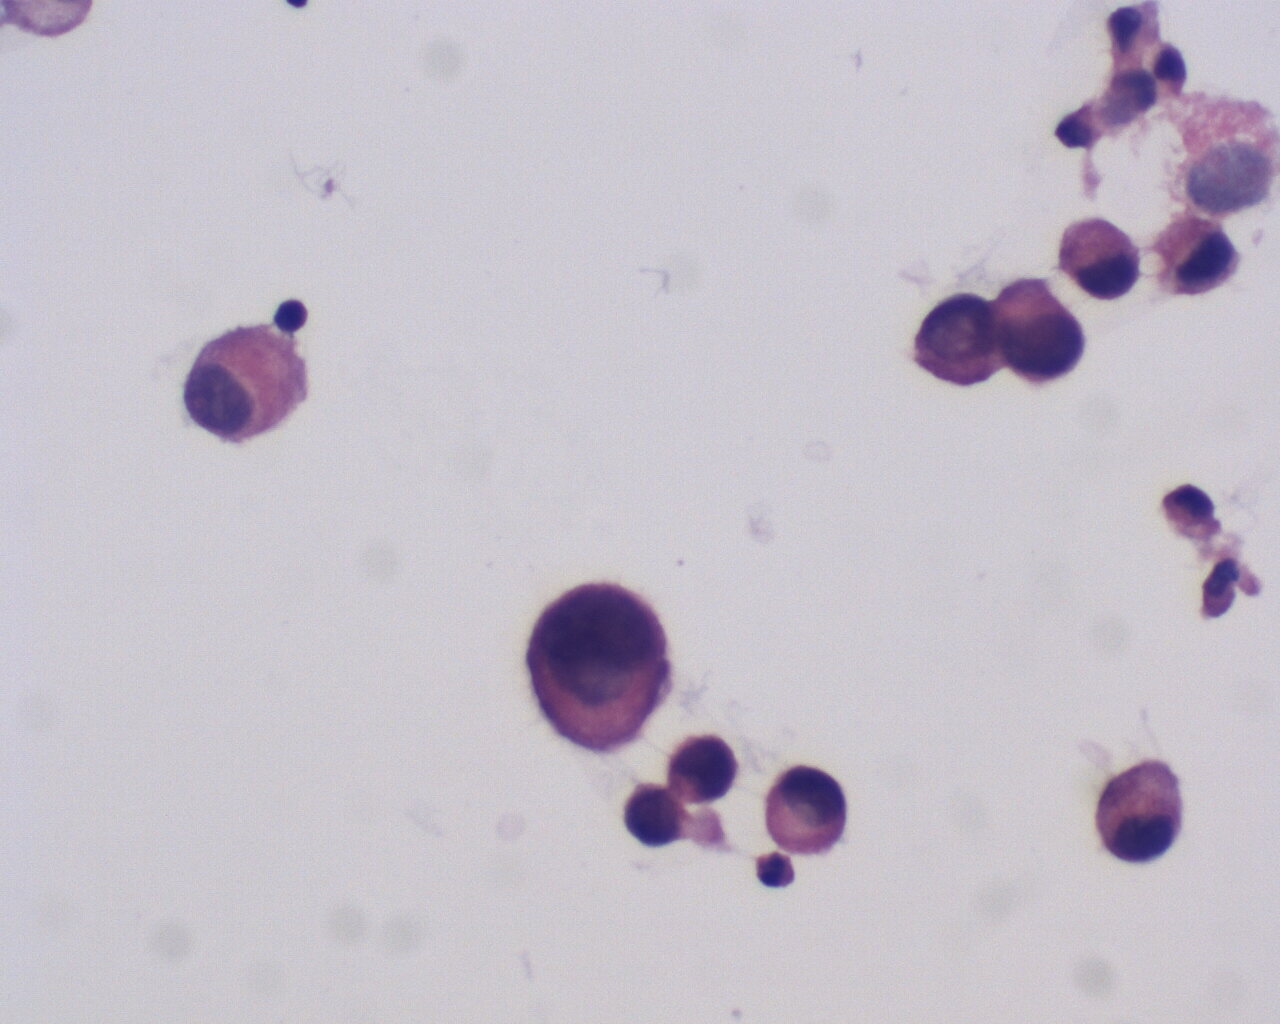ab: (516, 576, 668, 762), (994, 277, 1089, 388), (911, 290, 1005, 393), (1153, 211, 1241, 295), (1058, 216, 1143, 301), (667, 728, 740, 807), (622, 783, 689, 852)
lymph: (267, 292, 312, 334)
meso: (184, 328, 318, 450), (1091, 754, 1188, 869), (763, 764, 853, 854)
